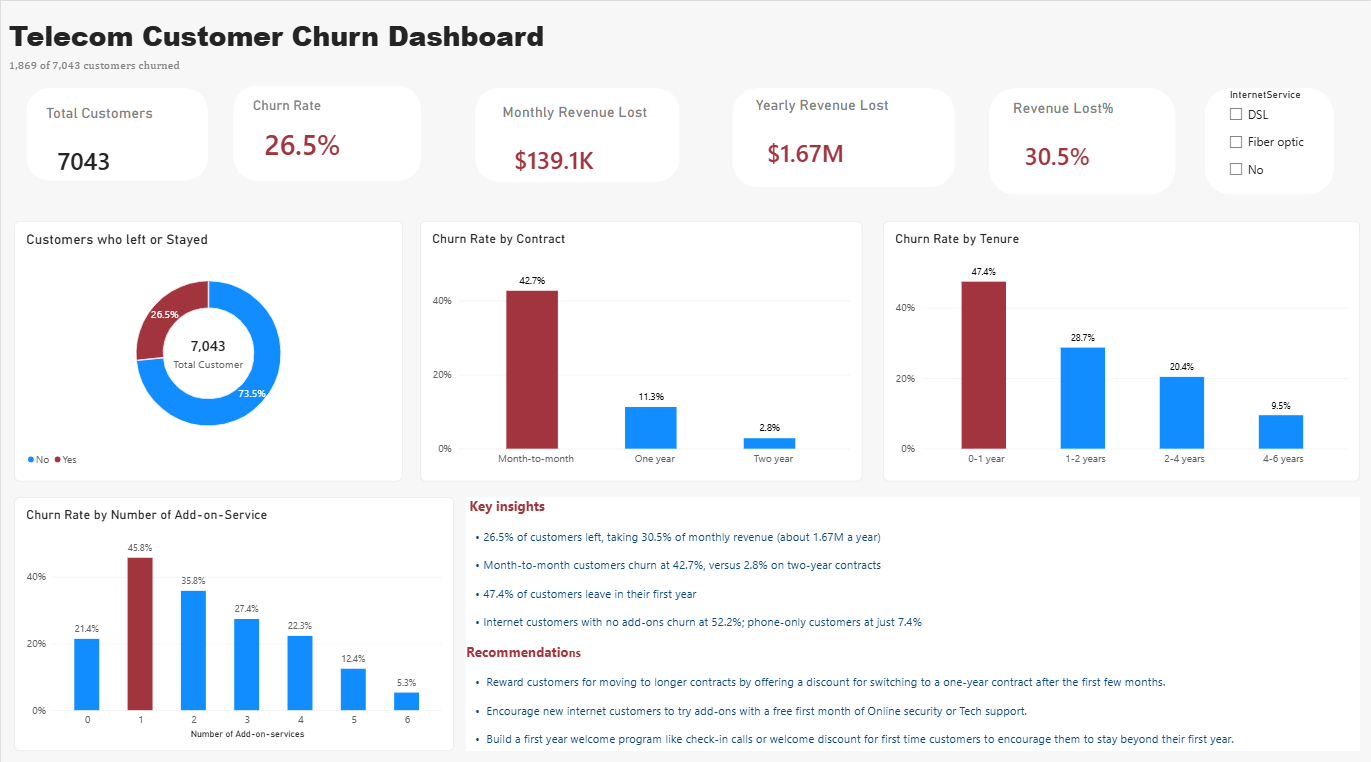

Layout of this report page (visuals, bound fields, positions):
{"tool":"powerbi","page":{"name":"Page 1","canvas":[1920,1080],"ordinal":0},"visuals":[{"type":"shape","box":[325.6,119.2,263.3,133.4],"z":0,"group":"g1"},{"type":"shape","box":[663.7,121,286.5,131.7],"z":0,"group":"g2"},{"type":"shape","box":[1023.1,121,311.4,138.8],"z":0,"group":"g3"},{"type":"shape","box":[1382.5,121,261.6,149.5],"z":0},{"type":"shape","box":[1685,121,181.5,149.5],"z":0,"group":"g4"},{"type":"cardVisual","title":"Yearly Revenue Lost","fields":{"Data":["churn.Yearly Revenue Lost"]},"box":[1055.6,132.6,189.9,117.3],"z":1000,"group":"g3"},{"type":"cardVisual","title":"Churn Rate","fields":{"Data":["churn.Churned Rate"]},"box":[353.6,135.1,208.8,101.7],"z":1000,"group":"g1"},{"type":"cardVisual","title":"Revenue Lost %","fields":{"Data":["churn.Revenue lost%"]},"box":[1416.3,137,197.5,124.6],"z":1000},{"type":"columnChart","title":"Churn Rate by Tenure","fields":{"Category":["churn.Tenure Group"],"Y":["churn.Churned Rate"]},"box":[1234.8,307.8,667.2,364.8],"z":1000},{"type":"donutChart","title":"Customers who left or Stayed","fields":{"Category":["churn.Churn"],"Y":["churn.Total Customer"]},"box":[18.5,307.9,543.5,364.9],"z":2000},{"type":"cardVisual","title":"Monthly Revenue Lost","fields":{"Data":["churn.Revenue Lost"]},"box":[702.8,142.9,210,98.8],"z":3000,"group":"g2"},{"type":"columnChart","title":"Churn Rate by Contract","fields":{"Category":["churn.Contract"],"Y":["churn.Churned Rate"]},"box":[587.2,307.8,619.2,364.8],"z":3000},{"type":"textbox","box":[10.7,21.4,758,58.7],"z":4000},{"type":"textbox","box":[10.7,80.1,266.9,26.7],"z":5000},{"type":"group","id":"g1","title":"Group 1","box":[325.6,119.2,263.3,133.4],"z":6000},{"type":"shape","box":[35.6,121,254.4,129.9],"z":7000,"group":"g5"},{"type":"group","id":"g2","title":"Group 3","box":[663.7,121,286.5,131.7],"z":7000},{"type":"group","id":"g3","title":"Group 4","box":[1023.1,121,311.4,138.8],"z":8000},{"type":"cardVisual","title":"Total Customers","fields":{"Data":["churn.Total Customers Display"]},"box":[69.3,135.5,150.9,106.2],"z":8000,"group":"g5"},{"type":"clusteredColumnChart","title":"Churn Rate by Number of Add-on-Service","fields":{"Category":["churn.AddsonServices"],"Y":["churn.Churned Rate"]},"box":[17.8,693.9,615.6,355.9],"z":11000},{"type":"slicer","fields":{"Values":["churn.InternetService"]},"box":[1713.5,121,137,145.7],"z":12000,"group":"g4"},{"type":"textbox","box":[651.2,693.9,1250.8,355.9],"z":13000},{"type":"group","id":"g4","title":"Group 6","box":[1685,121,181.5,149.5],"z":13001},{"type":"group","id":"g5","title":"Group 2","box":[35.6,121,254.4,129.9],"z":13002}]}

Visuals, with their boxes in screenshot pixels (x1, y1, x2, y2), scaled from the page's 1920x1080 canvas onto the 1371x762 screenshot:
shape: box(232, 84, 421, 178)
shape: box(474, 85, 679, 178)
shape: box(731, 85, 953, 183)
shape: box(987, 85, 1174, 191)
shape: box(1203, 85, 1333, 191)
"Yearly Revenue Lost" cardVisual: box(754, 94, 889, 176)
"Churn Rate" cardVisual: box(252, 95, 402, 167)
"Revenue Lost %" cardVisual: box(1011, 97, 1152, 185)
"Churn Rate by Tenure" columnChart: box(882, 217, 1358, 475)
"Customers who left or Stayed" donutChart: box(13, 217, 401, 475)
"Monthly Revenue Lost" cardVisual: box(502, 101, 652, 171)
"Churn Rate by Contract" columnChart: box(419, 217, 861, 475)
textbox: box(8, 15, 549, 57)
textbox: box(8, 57, 198, 75)
"Group 1" group: box(232, 84, 421, 178)
shape: box(25, 85, 207, 177)
"Group 3" group: box(474, 85, 679, 178)
"Group 4" group: box(731, 85, 953, 183)
"Total Customers" cardVisual: box(49, 96, 157, 171)
"Churn Rate by Number of Add-on-Service" clusteredColumnChart: box(13, 490, 452, 741)
slicer - churn.InternetService: box(1224, 85, 1321, 188)
textbox: box(465, 490, 1358, 741)
"Group 6" group: box(1203, 85, 1333, 191)
"Group 2" group: box(25, 85, 207, 177)
